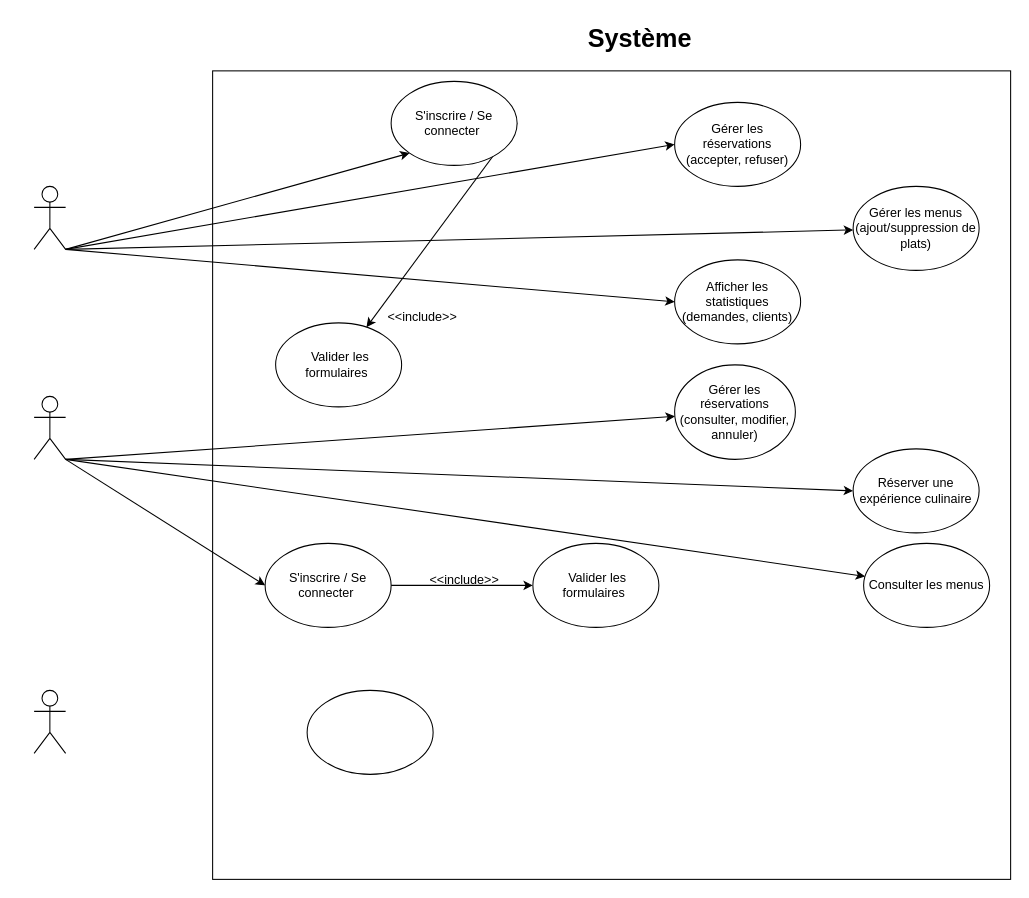
The diagram is 1029 pixels wide and 898 high, and some of its shapes have lost their labels. Here are the shapes that lost their labels. From the top down, the centre of each, then its label:
pixel 49 217: Chaf
pixel 49 427: Utilisateur
pixel 49 721: Actor
